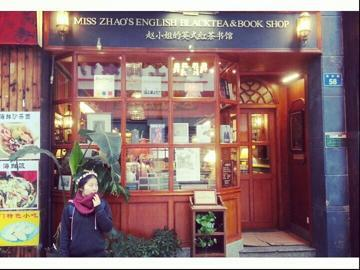person.body: (58, 168, 109, 255)
person.face: (148, 104, 188, 143), (81, 178, 99, 198)
